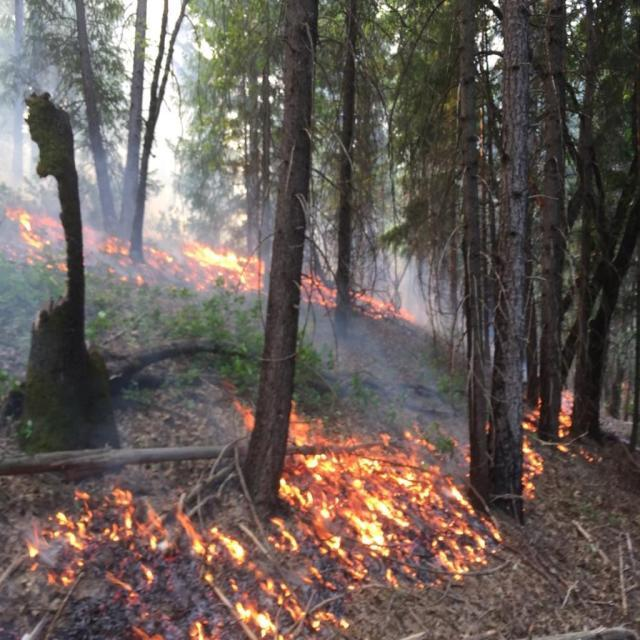Fire: (293, 428, 483, 572), (22, 488, 138, 579), (183, 526, 249, 564), (188, 238, 246, 281), (13, 203, 49, 270), (228, 606, 298, 640), (356, 285, 419, 321), (305, 264, 339, 308), (524, 418, 542, 492), (100, 235, 132, 258), (148, 246, 178, 264), (561, 410, 572, 446)
Smoke: (0, 0, 55, 215)
